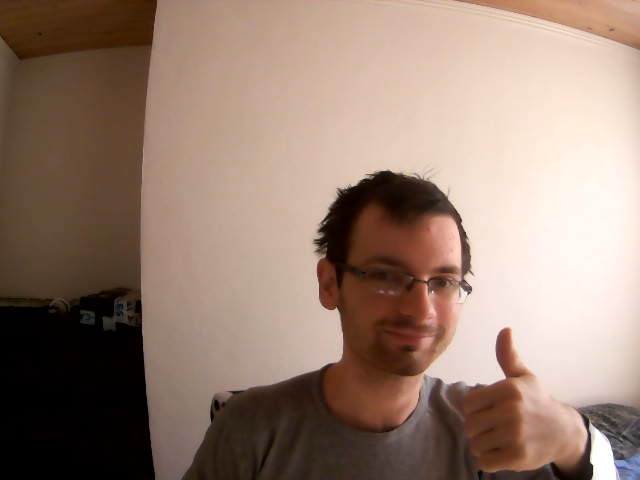nice: (458, 323, 563, 475)
